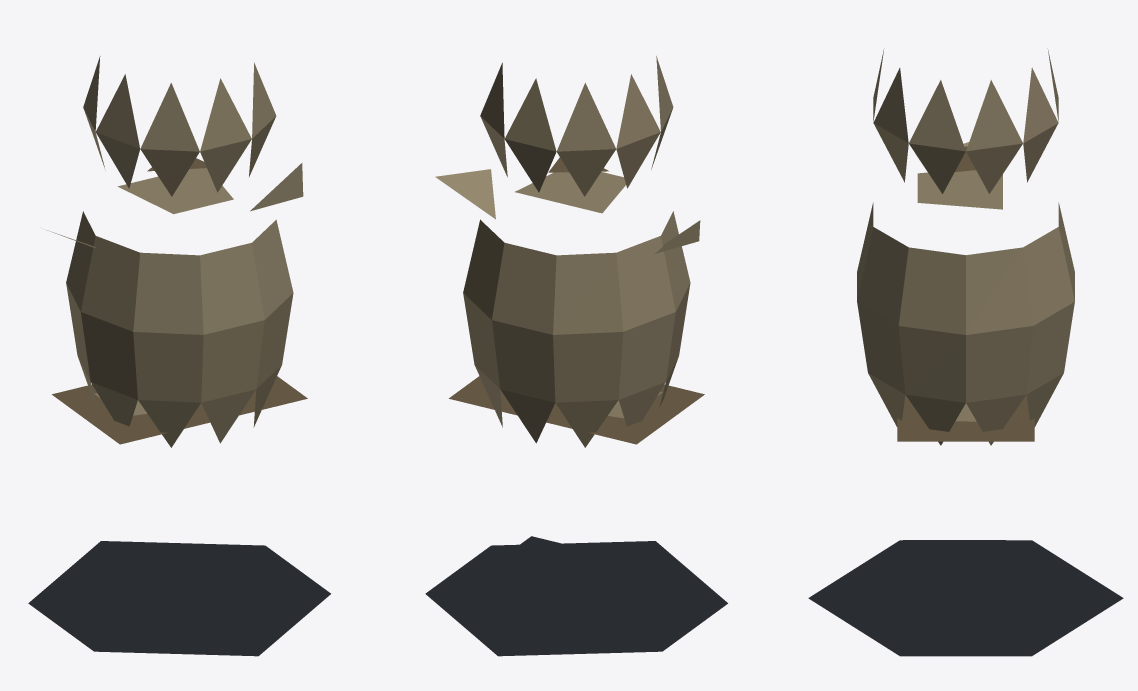
Rendered from fiber-armor.lod.glb.
3 renders of one model, left to right at view 1: azimuth 30°, elevation 25°; view 2: azimuth 150°, elevation 25°; view 3: azimuth 270°, elevation 25°, orthographic.
Parts seen in each view (by area): view 1: m; view 2: m; view 3: m.
Part boxes in pixels (x1=…): m: x1=28, y1=56, x2=330, y2=656; m: x1=425, y1=56, x2=727, y2=656; m: x1=808, y1=48, x2=1123, y2=656.
Bounding box in the file's own units: 0.3472 × 0.5144 × 0.2572.
